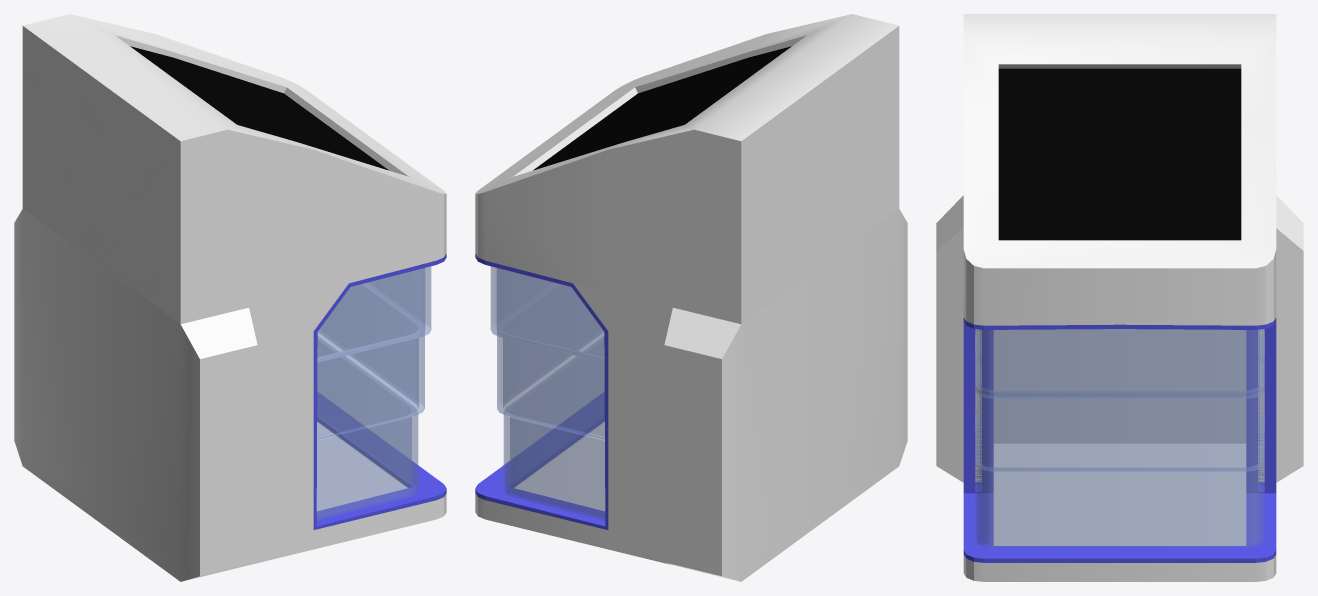
File: analyzer.fbx
3 renders of one model, left to right at view 1: azimuth 30°, elevation 25°; view 2: azimuth 150°, elevation 25°; view 3: azimuth 270°, elevation 25°, orthographic.
Visible parts, largest first — view 1: Cube.001, Cube.005, Cube.004, Cube.003, Cube.002; view 2: Cube.001, Cube.005, Cube.004, Cube.003, Cube.002; view 3: Cube.001, Cube.004, Cube.005, Cube.003, Cube.002.
Boxes of the visible parts, x1=… form: Cube.001: x1=14, y1=14, x2=446, y2=581; Cube.005: x1=316, y1=337, x2=418, y2=520; Cube.004: x1=317, y1=283, x2=424, y2=439; Cube.003: x1=317, y1=266, x2=431, y2=362; Cube.002: x1=313, y1=253, x2=446, y2=529; Cube.001: x1=475, y1=14, x2=907, y2=581; Cube.005: x1=503, y1=337, x2=605, y2=520; Cube.004: x1=497, y1=283, x2=604, y2=439; Cube.003: x1=490, y1=266, x2=604, y2=362; Cube.002: x1=475, y1=253, x2=608, y2=529; Cube.001: x1=936, y1=14, x2=1303, y2=581; Cube.004: x1=975, y1=333, x2=1264, y2=471; Cube.005: x1=975, y1=431, x2=1264, y2=546; Cube.003: x1=975, y1=329, x2=1264, y2=398; Cube.002: x1=963, y1=317, x2=1276, y2=562.
Bounding box in the file's own units: 200 × 308 × 235.
